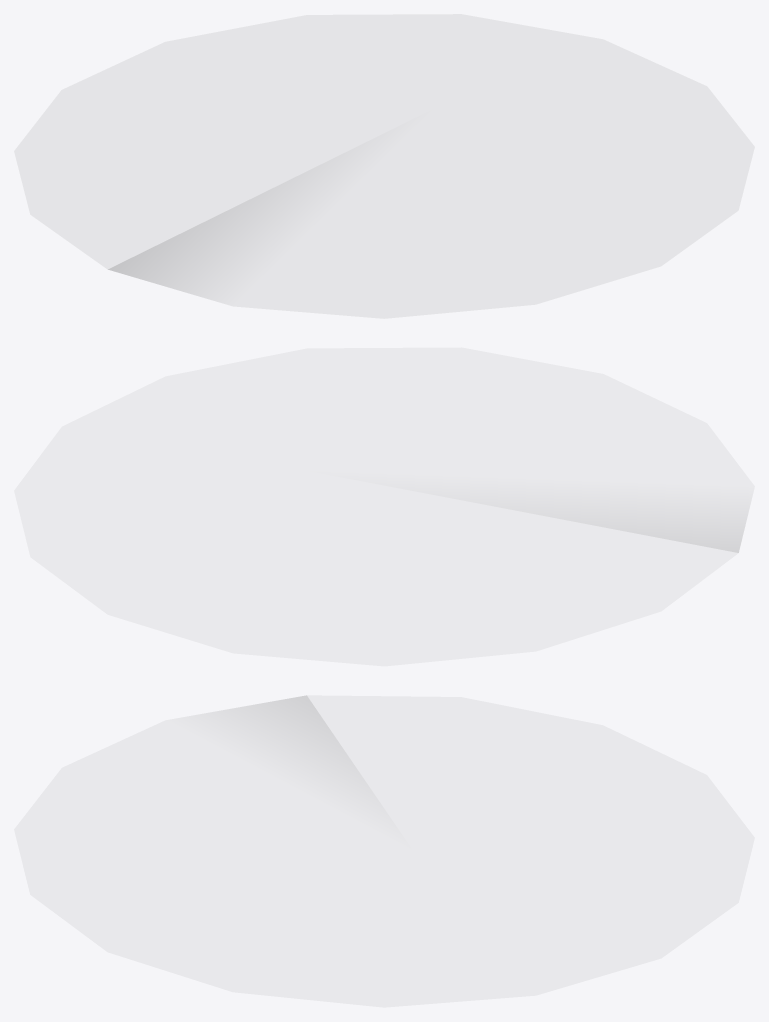
3 renders of one model, top to bottom at view 1: azimuth 30°, elevation 25°; view 2: azimuth 150°, elevation 25°; view 3: azimuth 270°, elevation 25°, orthographic.
Parts seen in each view (by area): view 1: Joint_0_Object_0; view 2: Joint_0_Object_0; view 3: Joint_0_Object_0.
Part boxes in pixels (left/top/right/bottom): Joint_0_Object_0: left=108, top=156, right=338, bottom=294; Joint_0_Object_0: left=433, top=494, right=749, bottom=552; Joint_0_Object_0: left=207, top=695, right=381, bottom=805.
Size of the model in its own units: 316 by 16.19 by 318.
1 material, 1 textured.
